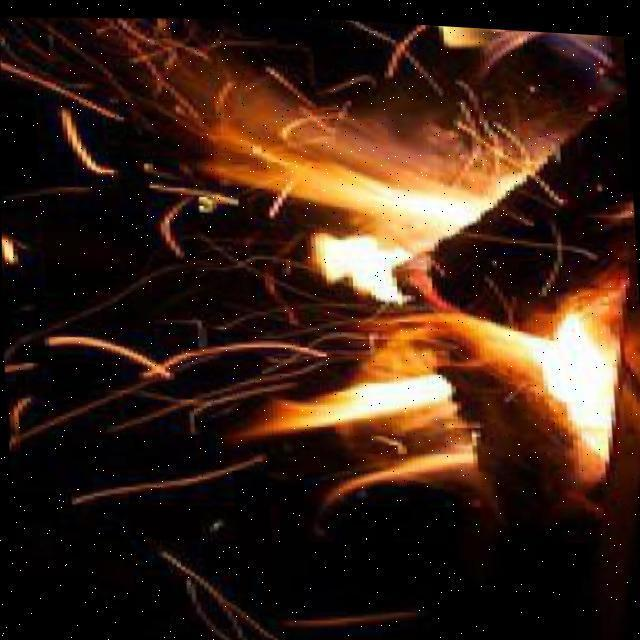fire: (86, 19, 534, 260), (41, 325, 495, 493), (409, 239, 640, 493)
